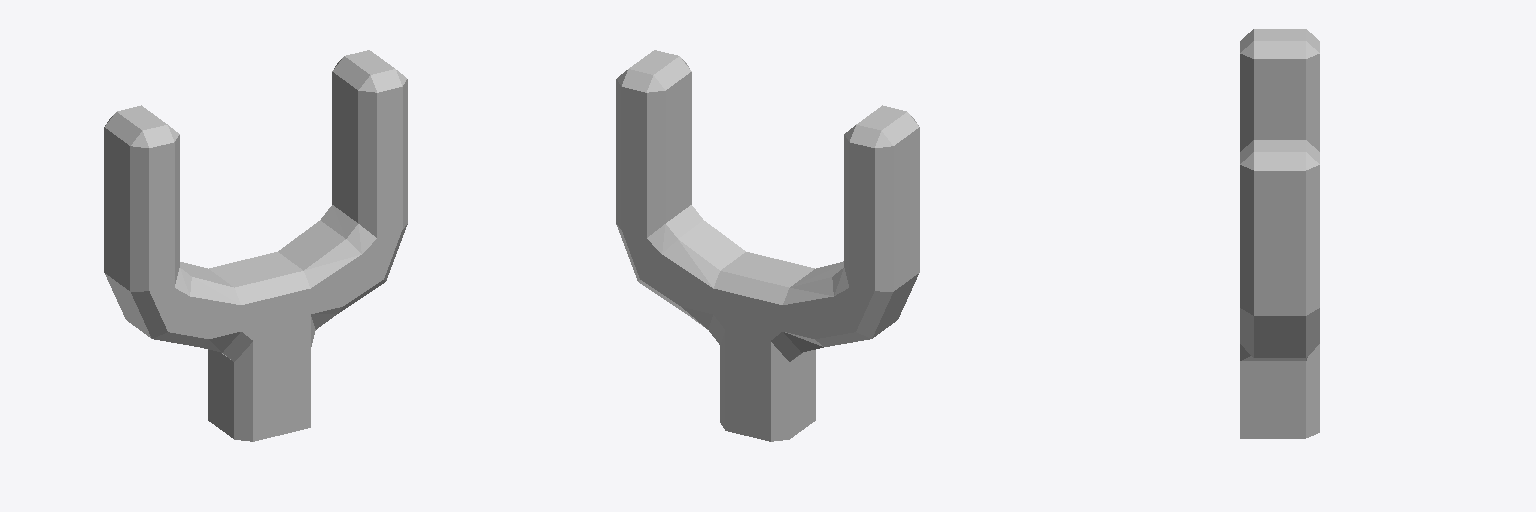
The model's file is RangedTurretMount.obj.
3 views of the same model, side by side, from view 1: azimuth 30°, elevation 25°; view 2: azimuth 150°, elevation 25°; view 3: azimuth 270°, elevation 25° (orthographic).
Parts seen in each view (by area): view 1: polySurface413; view 2: polySurface413; view 3: polySurface413.
Boxes of the visible parts, x1,y1,x2,y2 form: polySurface413: [104, 50, 407, 441]; polySurface413: [616, 50, 919, 441]; polySurface413: [1240, 29, 1319, 438].
Bounding box in the file's own units: 4 × 4.57 × 1.